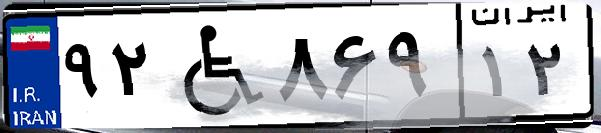1: (475, 38, 525, 113)
2: (525, 38, 570, 115), (110, 28, 158, 98)
6: (330, 28, 385, 110)
8: (270, 28, 330, 110)
9: (385, 28, 445, 110), (57, 26, 110, 100)
ژ (معلولین و جانبازان): (158, 12, 270, 120)
